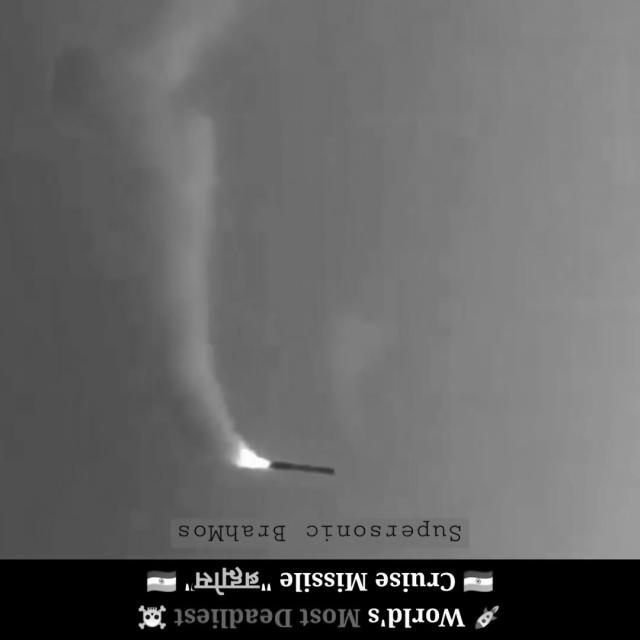missile: (253, 454, 339, 490)
